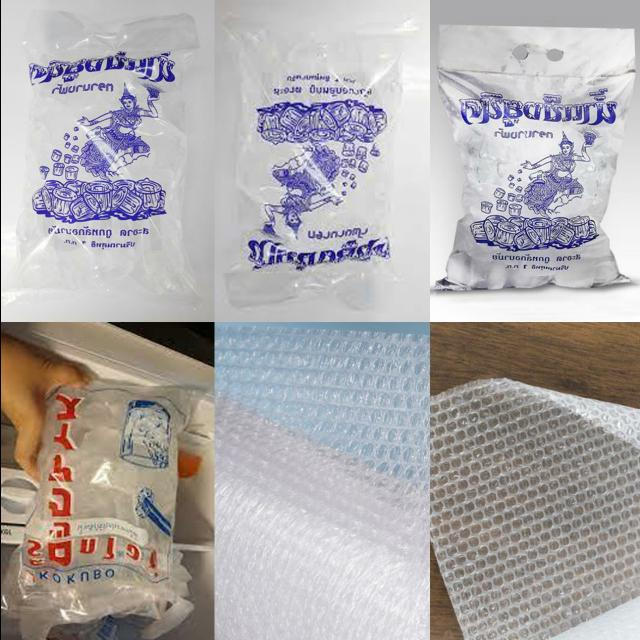plastik: (215, 323, 429, 640), (430, 379, 640, 640), (223, 14, 405, 312), (17, 11, 199, 302), (437, 26, 633, 290), (16, 388, 206, 640)
